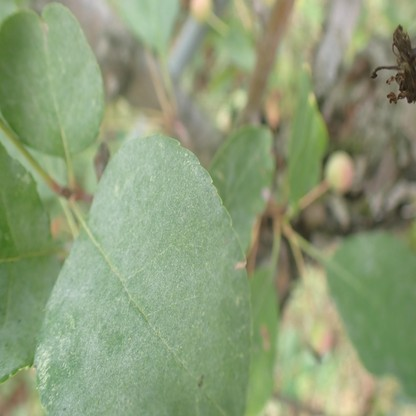powdery_mildew: (37, 136, 249, 416), (0, 1, 105, 156), (0, 207, 61, 380), (354, 232, 380, 275)
